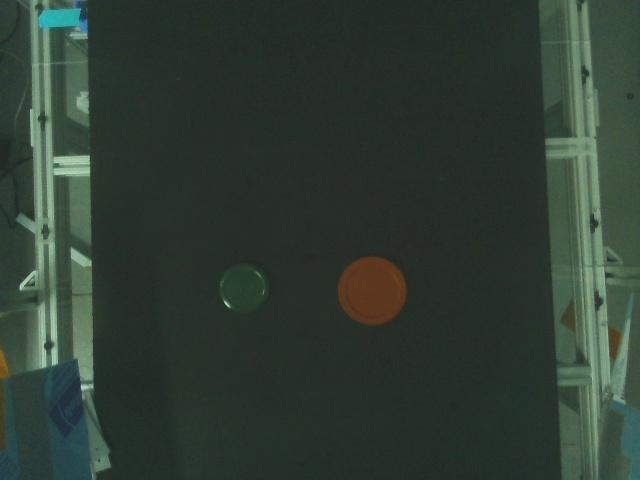metal: (218, 262, 268, 315)
plastic: (337, 256, 408, 328)
